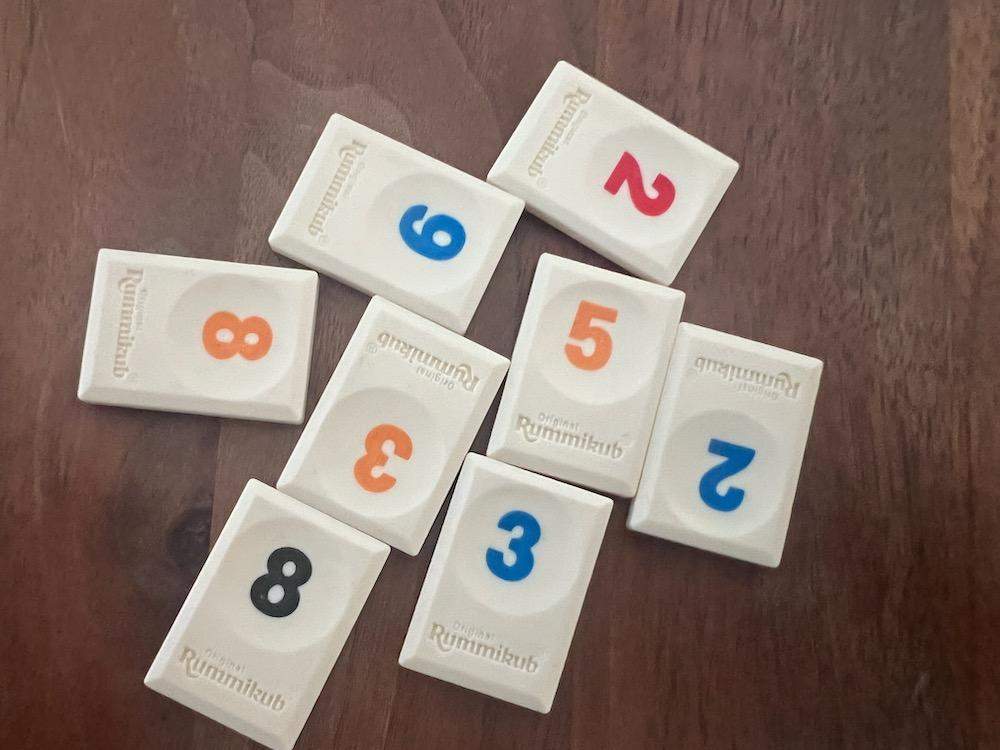black_8: (145, 479, 389, 748)
blue_2: (627, 322, 822, 566)
blue_3: (400, 456, 613, 716)
blue_9: (270, 115, 523, 334)
orange_3: (277, 297, 510, 555)
orange_5: (486, 254, 684, 496)
orange_8: (78, 248, 318, 424)
red_2: (488, 61, 738, 285)
